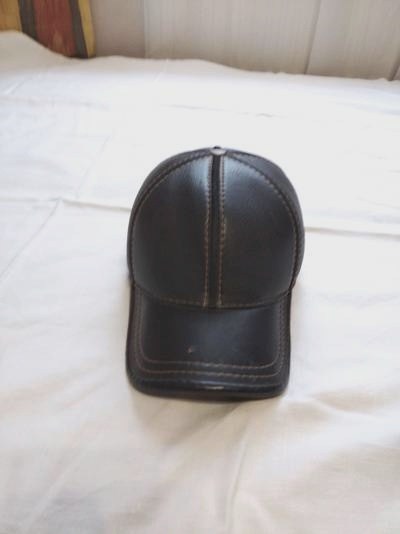Hat: (88, 127, 322, 421)
